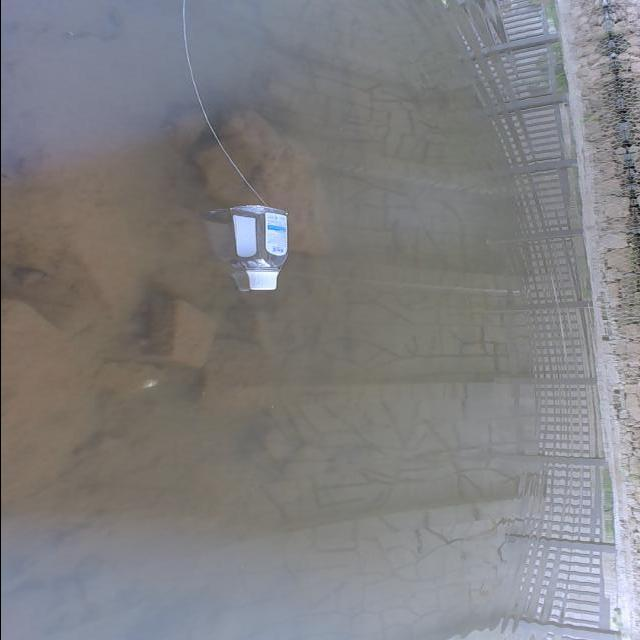Bottle: (224, 201, 290, 293)
